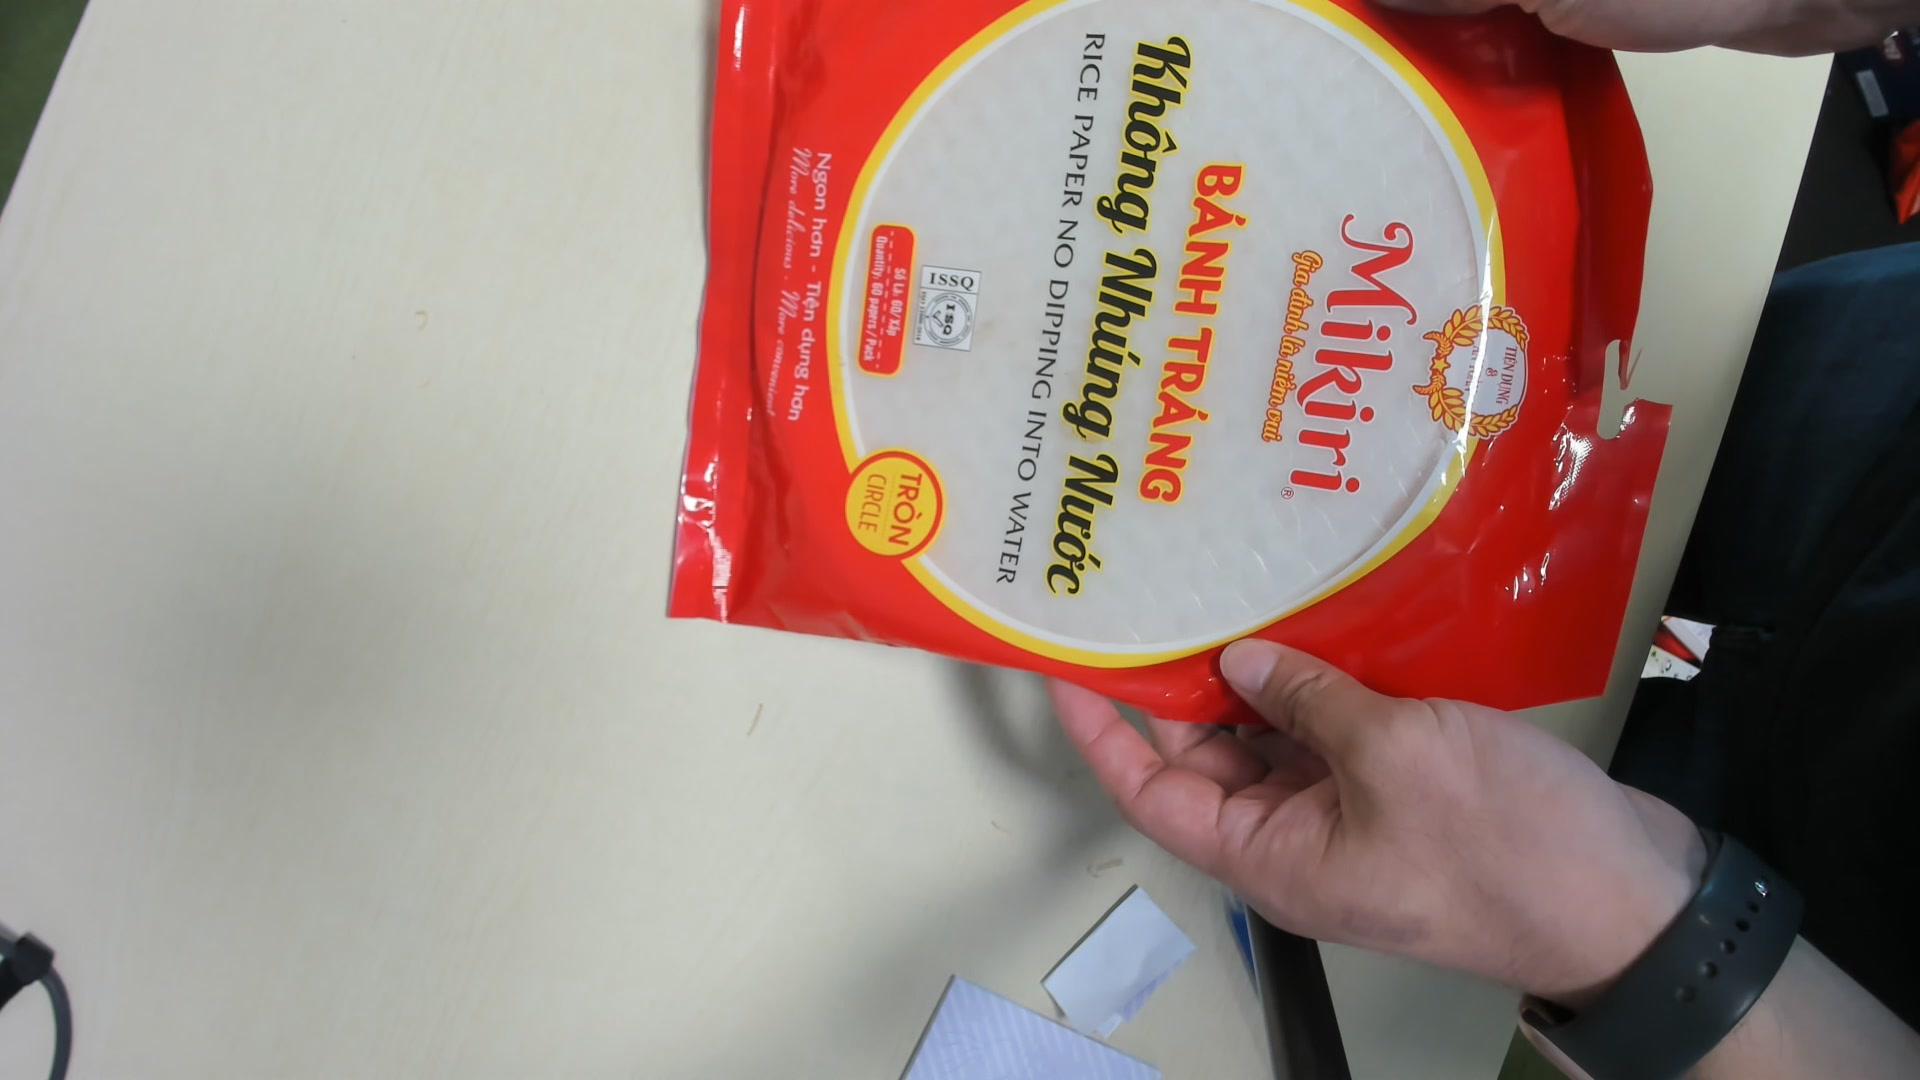InstantMeals_200_299g_NonHalal_NonHealthy: (676, 3, 1654, 715)
